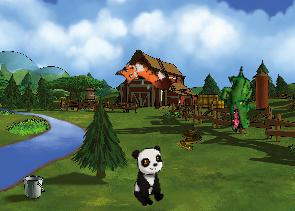crocodile: (211, 65, 266, 134)
fox: (112, 49, 174, 108)
panda: (130, 145, 167, 207)
